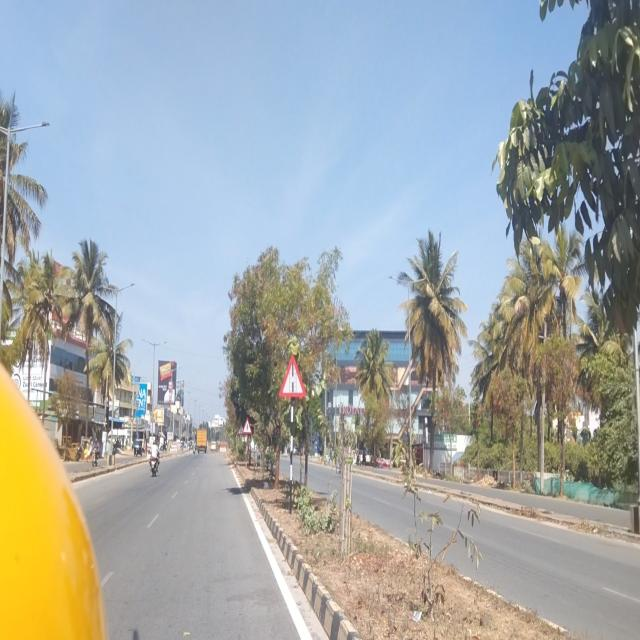bien_cam: (279, 353, 305, 399), (242, 416, 253, 436), (237, 425, 244, 435)
